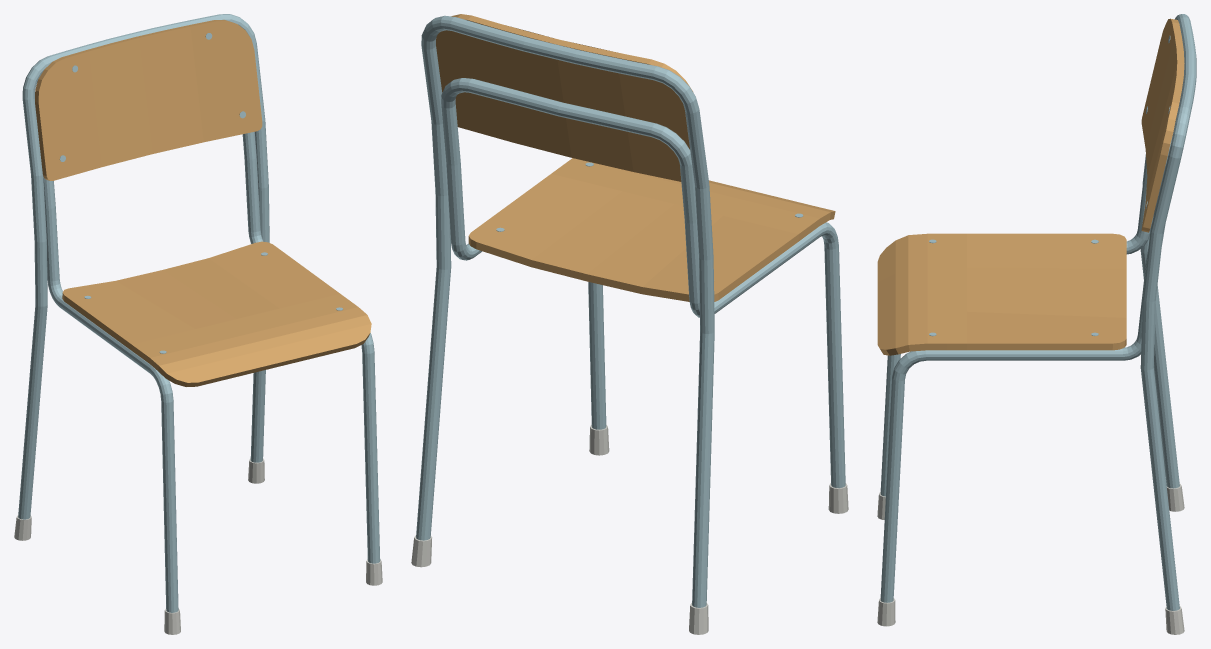
Rendered from School Chair.fbx.
3 views of the same model, side by side, from view 1: azimuth 30°, elevation 25°; view 2: azimuth 150°, elevation 25°; view 3: azimuth 270°, elevation 25° (orthographic). The views are drawn at different scales.
Visible parts, largest first — view 1: school chair; view 2: school chair; view 3: school chair.
Part boxes in pixels (x1,y1,x2,y2): school chair: (14, 14, 382, 634); school chair: (411, 14, 848, 634); school chair: (877, 14, 1196, 634).
Bounding box in the file's own units: 41.66 × 75.4 × 42.97.
